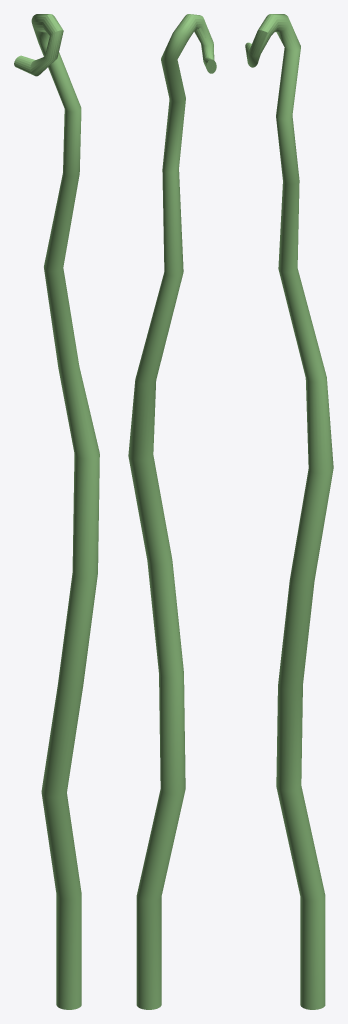
The model's file is vines.fbx.
3 views of the same model, side by side, from view 1: azimuth 30°, elevation 25°; view 2: azimuth 150°, elevation 25°; view 3: azimuth 330°, elevation 25° (orthographic).
Visible parts, largest first — view 1: pCylinder7; view 2: pCylinder7; view 3: pCylinder7.
Boxes of the visible parts, left/top/right/bottom form: pCylinder7: left=14, top=14, right=99, bottom=1009; pCylinder7: left=128, top=14, right=216, bottom=1009; pCylinder7: left=245, top=14, right=333, bottom=1009.
Bounding box in the file's own units: 1.07 × 12 × 0.6717.
